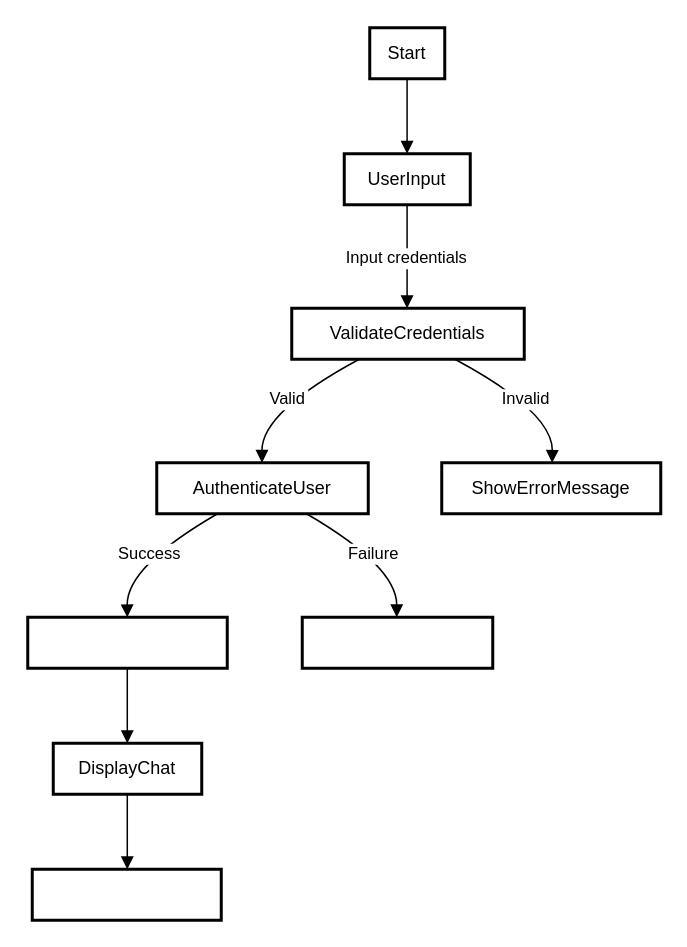
The diagram is 687 pixels wide and 947 high, and some of its shapes have lost their labels. Here are the shapes that lost their labels. From the top down, the centre of each, then its label:
the point at 127,642: LoadChatHistory
the point at 397,642: ShowLoginError
the point at 126,894: UserInteraction
